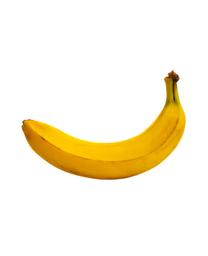banana: (20, 72, 186, 178)
